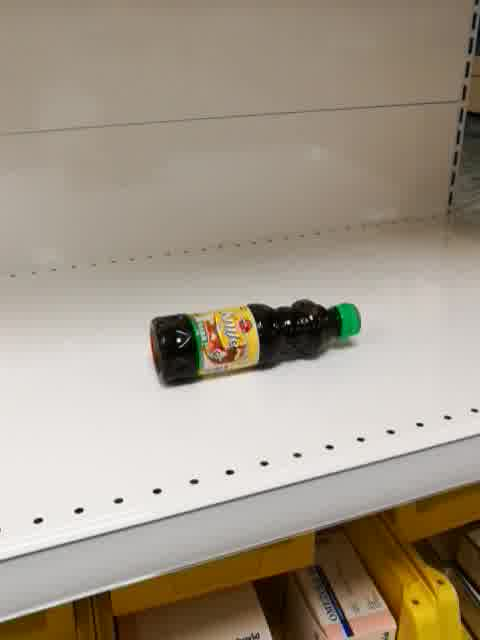cookingoil: (147, 297, 365, 388)
